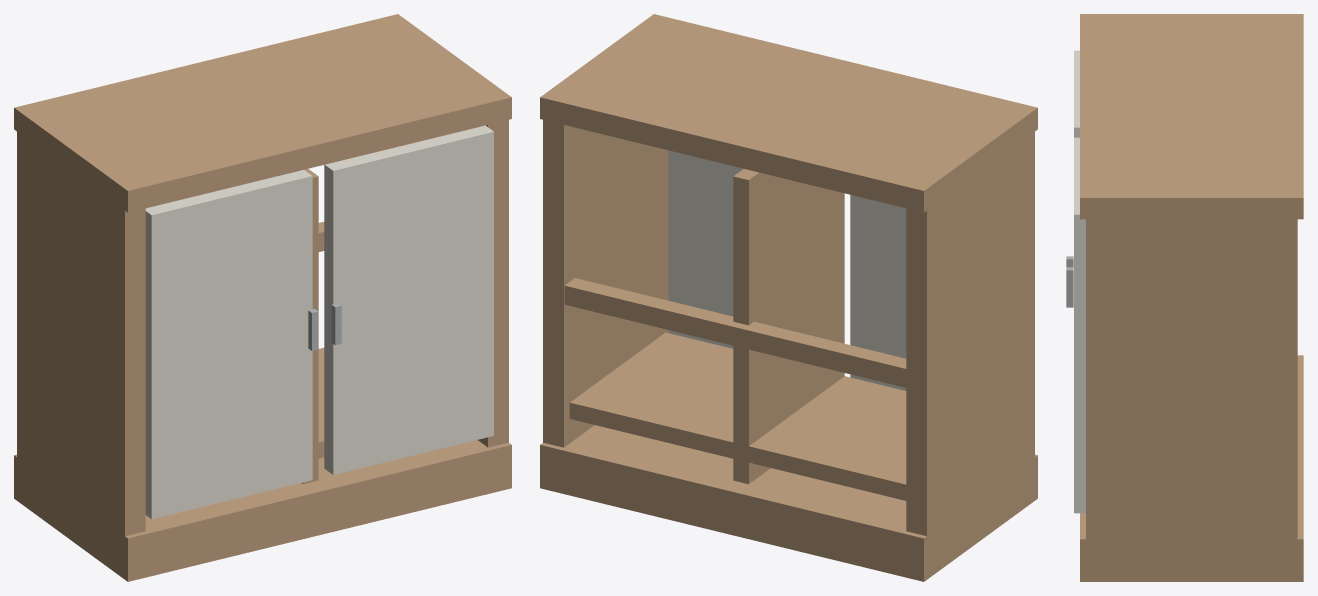
File: common-furniture.glb
3 views of the same model, side by side, from view 1: azimuth 30°, elevation 25°; view 2: azimuth 150°, elevation 25°; view 3: azimuth 270°, elevation 25° (orthographic).
Parts seen in each view (by area): view 1: Generic configurable furniture preview; view 2: Generic configurable furniture preview; view 3: Generic configurable furniture preview.
Part boxes in pixels (box(x1,y1,x2,y2)): Generic configurable furniture preview: box(14, 14, 511, 581); Generic configurable furniture preview: box(540, 14, 1037, 581); Generic configurable furniture preview: box(1066, 14, 1303, 581).
Bounding box in the file's own units: 1.48 × 1.44 × 0.8065.
